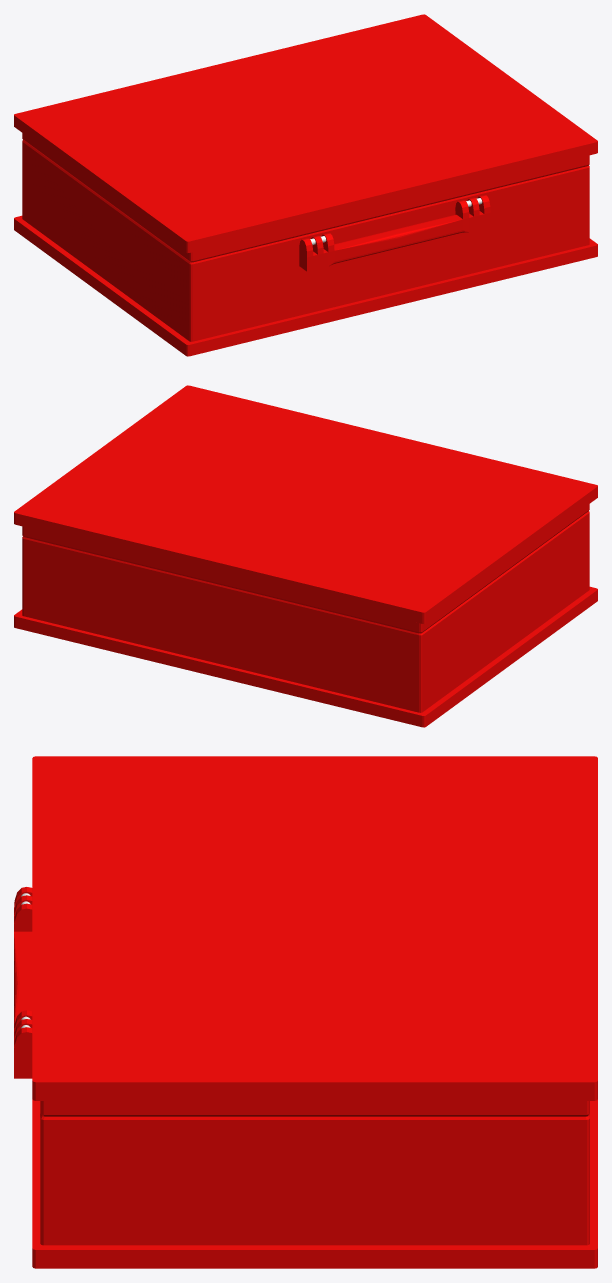
The model's file is medkit.fbx.
3 renders of one model, top to bottom at view 1: azimuth 30°, elevation 25°; view 2: azimuth 150°, elevation 25°; view 3: azimuth 270°, elevation 25°, orthographic. The views are drawn at different scales.
Parts seen in each view (by area): view 1: Cube; view 2: Cube; view 3: Cube.
Part boxes in pixels (x1,y1,x2,y2): Cube: (14,14,597,356); Cube: (14,385,597,727); Cube: (14,756,597,1268).
Size of the model in its own units: 15 by 4 by 11.36.
